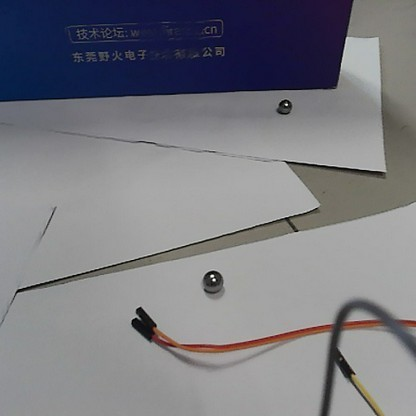ironball: (199, 269, 224, 298), (276, 96, 291, 115)
